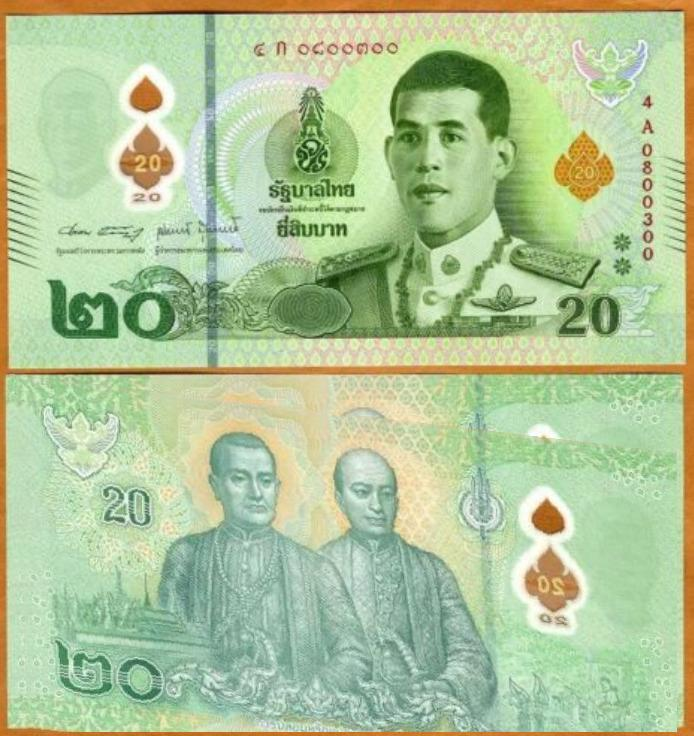20BahtTai: (10, 375, 677, 733)
